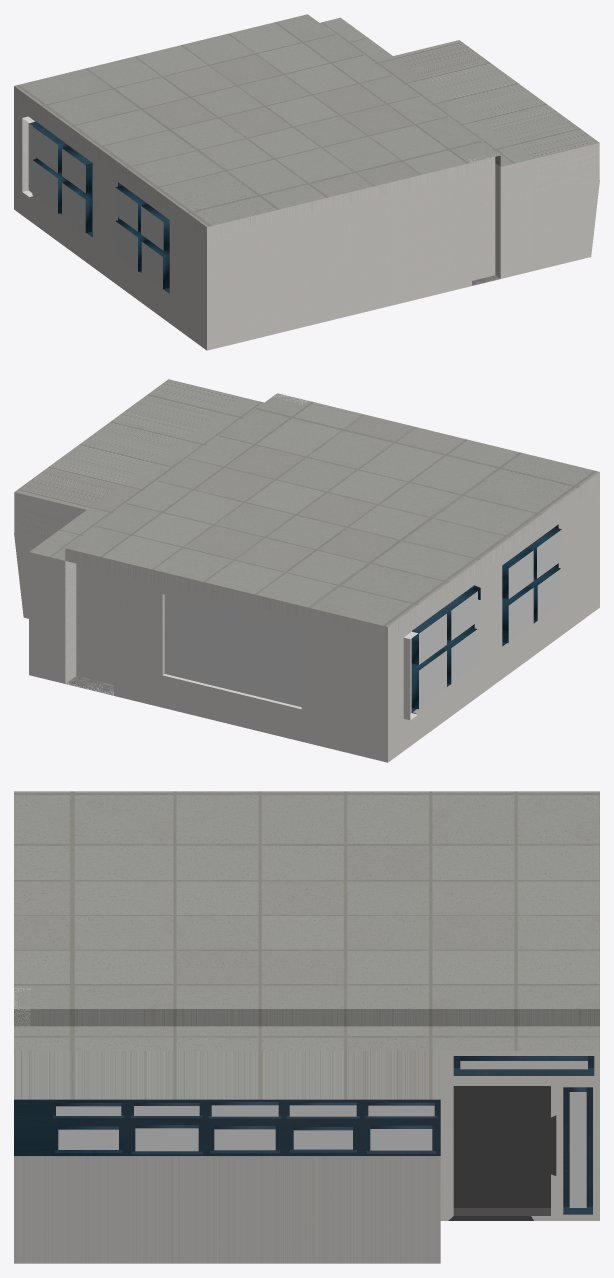
3 views of the same model, one above another, from view 1: azimuth 30°, elevation 25°; view 2: azimuth 150°, elevation 25°; view 3: azimuth 270°, elevation 25° (orthographic). The views are drawn at different scales.
Parts seen in each view (by area): view 1: Techo, Paredes, Vidrios, MarcoVentanas; view 2: Techo, Paredes, Pizarron, Vidrios, MarcoVentanas; view 3: Techo, Paredes, MarcoVentanaSup, Vidrios, Puerta, MarcoPuerta2, MarcoPuerta1.
Boxes of the visible parts, bbox=[...] form: Techo: bbox=[14, 14, 599, 226]; Paredes: bbox=[14, 86, 599, 350]; Vidrios: bbox=[32, 126, 163, 288]; MarcoVentanas: bbox=[30, 121, 169, 293]; Techo: bbox=[14, 379, 599, 626]; Paredes: bbox=[14, 393, 599, 762]; Pizarron: bbox=[164, 595, 301, 707]; Vidrios: bbox=[419, 529, 561, 708]; MarcoVentanas: bbox=[411, 524, 561, 714]; Techo: bbox=[14, 791, 599, 1099]; Paredes: bbox=[14, 988, 599, 1263]; MarcoVentanaSup: bbox=[14, 1099, 440, 1156]; Vidrios: bbox=[56, 1061, 587, 1207]; Puerta: bbox=[448, 1086, 556, 1220]; MarcoPuerta2: bbox=[563, 1087, 592, 1214]; MarcoPuerta1: bbox=[453, 1056, 594, 1075].
Bounding box in the file's own units: 3169 × 936 × 2650.
